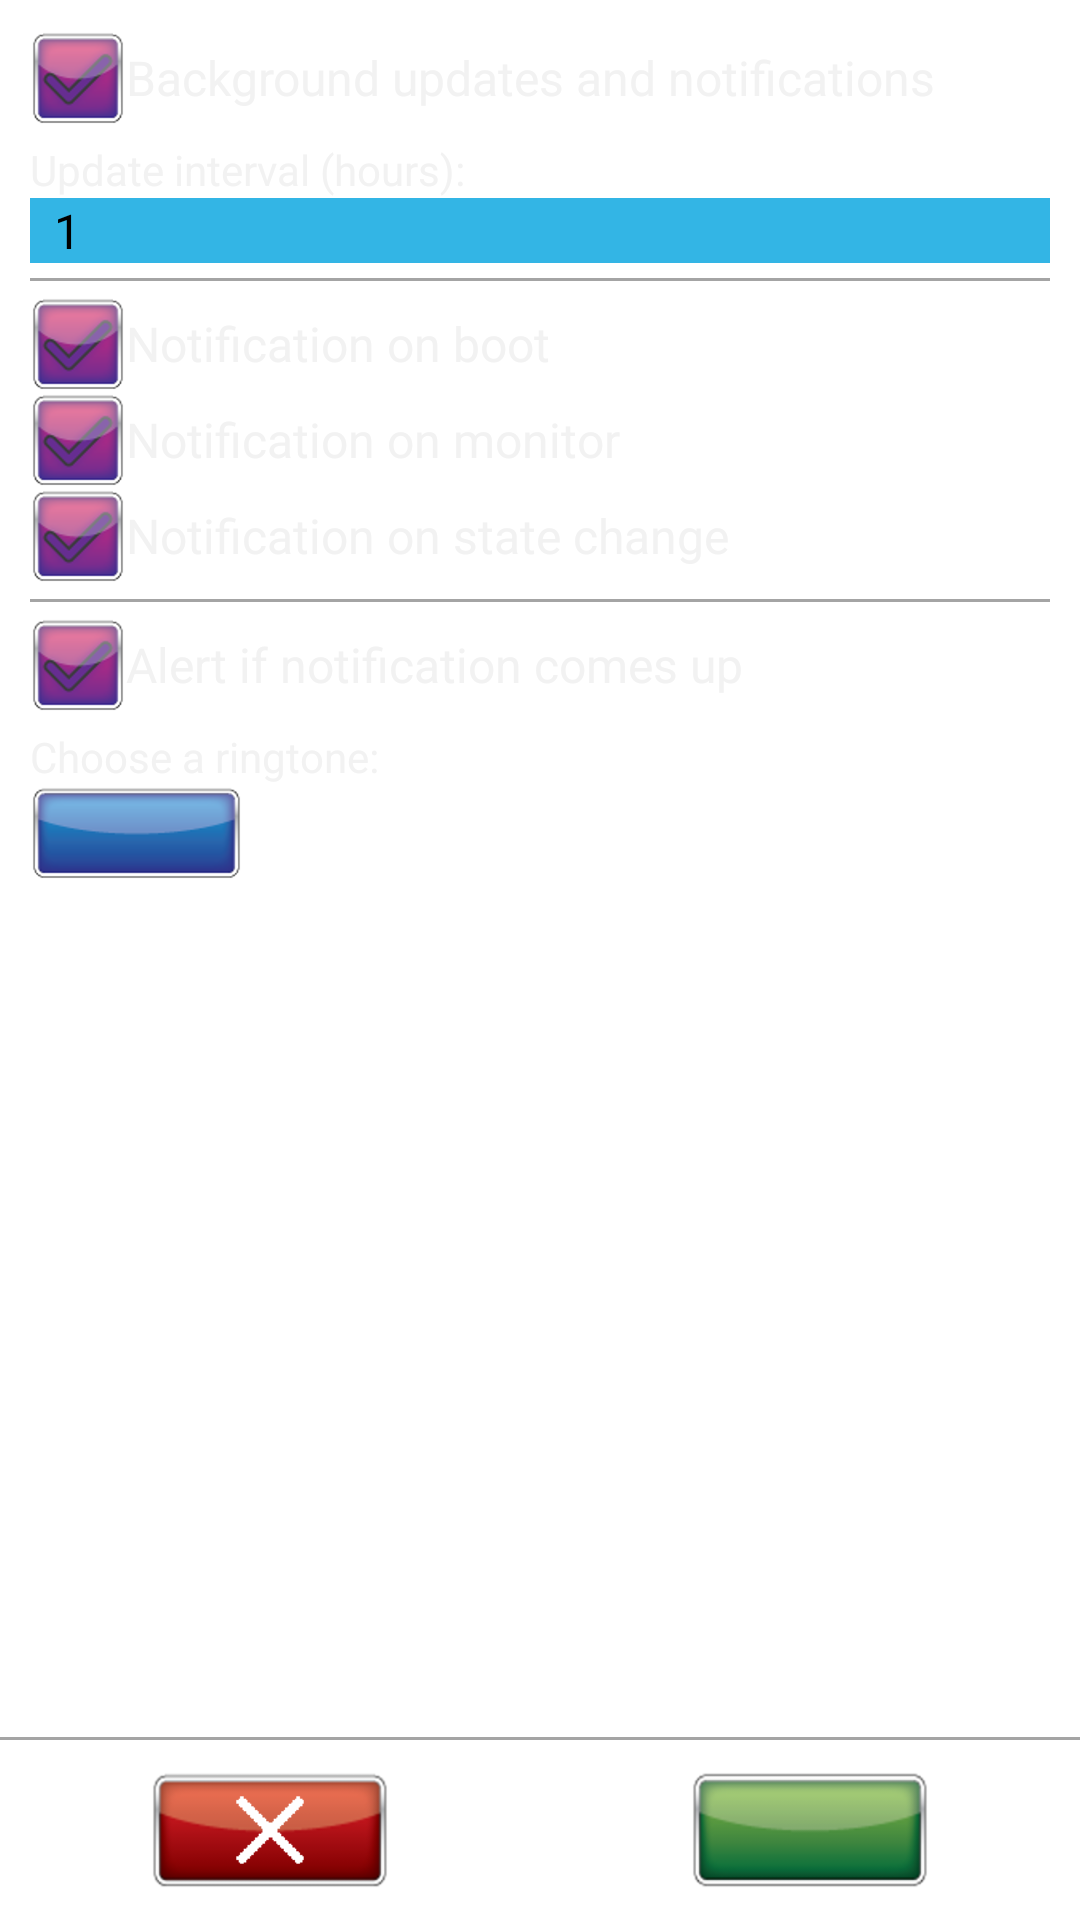

Locate icon controls on the screen. Image size 1080px x 1920px, boxes as (x1, y1, x2, y2).
cancel: (153, 1774, 387, 1887)
